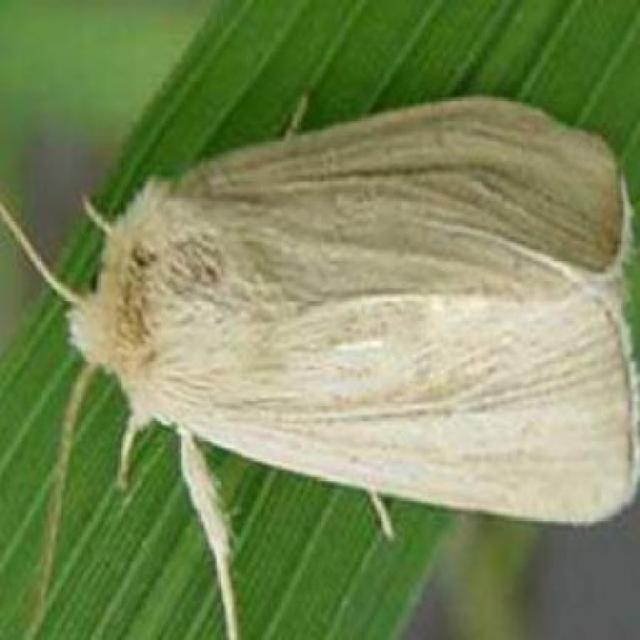stem-borer: (35, 80, 640, 598)
